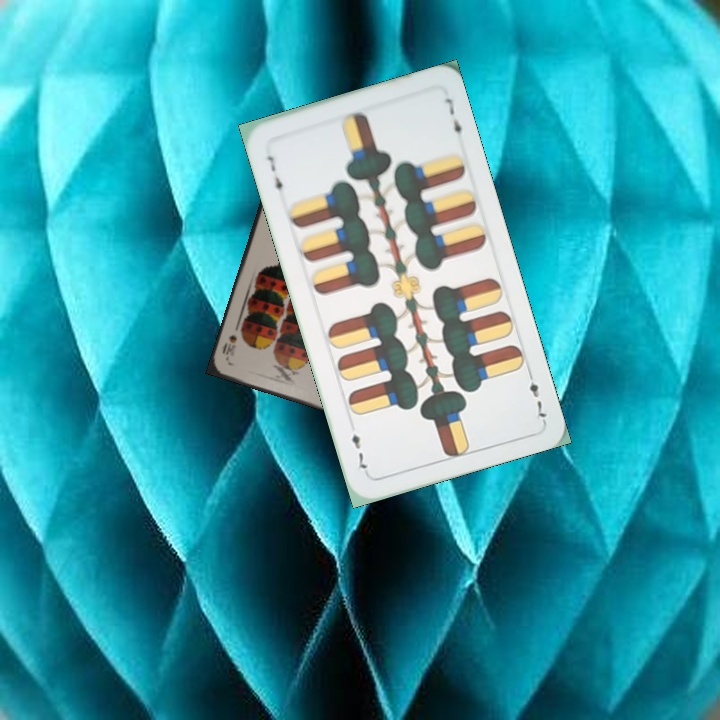E7: (524, 366, 549, 424), (263, 151, 286, 200)
